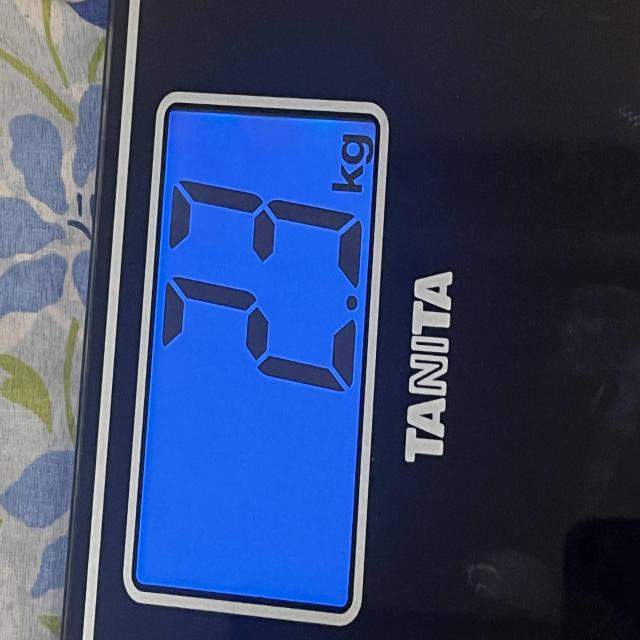ws: (67, 92, 640, 640)
